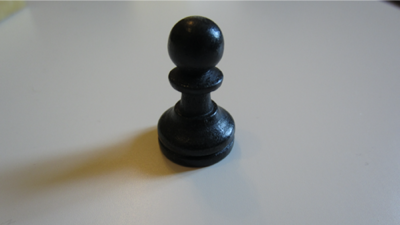black-pawn: (154, 16, 238, 169)
